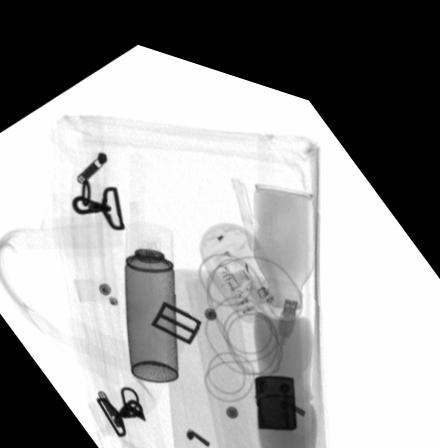Lighter: (253, 356, 297, 411)
Sprayer: (123, 210, 178, 371)
